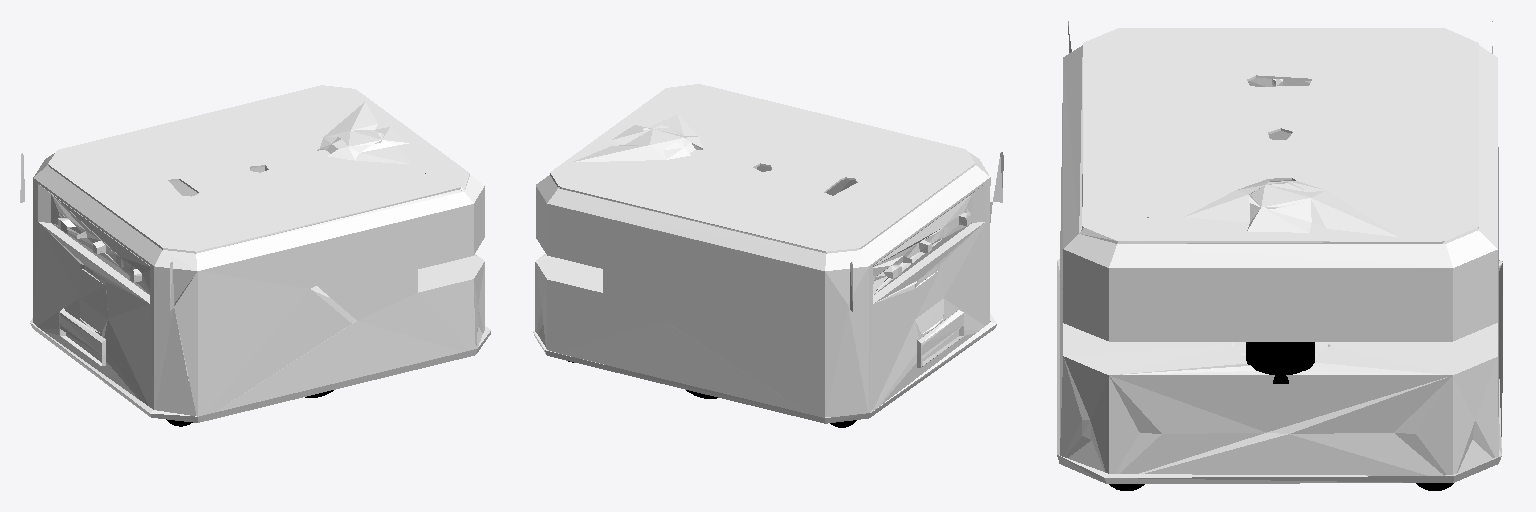
The robot description file, URDF, robot "qrb_robot_base":
<?xml version="1.0" ?>
<!-- =================================================================================== -->
<!-- |    This document was autogenerated by xacro from src/qrb_amr_sim/description/qrb_robot_base.urdf.xacro | -->
<!-- |    EDITING THIS FILE BY HAND IS NOT RECOMMENDED                                 | -->
<!-- =================================================================================== -->
<!-- Qualcomm's QRB robot base (qrb_ros_simulation, BSD-3-Clause) for the MoveIt Pro Simulator.
     The Gazebo diff-drive and sensor blocks are replaced by MujocoSystem and diff_drive_controller. -->
<robot name="qrb_robot_base">
  <mujoco>
    <option integrator="implicitfast"/>
    <compiler fusestatic="false" discardvisual="false"/>
  </mujoco>
  <material name="white">
    <color rgba="1 1 1 1"/>
  </material>
  <material name="black">
    <color rgba="0 0 0 1"/>
  </material>
  <material name="transparent">
    <color rgba="0 0 0 0"/>
  </material>
  <link name="base_footprint"/>
  <link name="base_link">
    <visual>
      <origin rpy="0 0 3.141592653589793" xyz="0 0 -0.1425"/>
      <geometry>
        <mesh filename="package://qrb_amr_sim/description/assets/wheelTec_AMR.STL" scale="0.001 0.001 0.001"/>
      </geometry>
      <material name="white"/>
    </visual>
    <inertial name="base_link_inertial">
      <mass value="38"/>
      <inertia ixx="1.0488791666666666" ixy="0" ixz="0" iyy="1.4744791666666666" iyz="0" izz="2.0089333333333337"/>
    </inertial>
    <collision name="base_link_collision">
      <origin rpy="0 0 0" xyz="0 0 0"/>
      <geometry>
        <box size="0.62 0.5 0.285"/>
      </geometry>
    </collision>
  </link>
  <joint name="base_link_joint" type="fixed">
    <parent link="base_footprint"/>
    <child link="base_link"/>
    <origin xyz="0 0 0.1789"/>
  </joint>
  <link name="laser">
    <visual>
      <origin rpy="0 0 3.141592653589793" xyz="0 0 0"/>
      <geometry>
        <cylinder length="0.041" radius="0.038"/>
      </geometry>
      <material name="transparent"/>
    </visual>
    <inertial>
      <mass value="0.3"/>
      <inertia ixx="0.00015032499999999998" ixy="0" ixz="0" iyy="0.00015032499999999998" iyz="0" izz="0.00021659999999999998"/>
    </inertial>
    <collision>
      <origin rpy="0 0 3.141592653589793" xyz="0 0 0"/>
      <geometry>
        <cylinder length="0.041" radius="0.038"/>
      </geometry>
    </collision>
  </link>
  <joint name="laser_joint" type="fixed">
    <parent link="base_link"/>
    <child link="laser"/>
    <origin rpy="0 0 0" xyz="0.262 0 -0.002899999999999986"/>
  </joint>
  <!-- Wheel_left Link -->
  <link name="wheel_left">
    <inertial name="wheel_left_inertial">
      <mass value="1"/>
      <inertia ixx="0.0012808958333333335" ixy="0" ixz="0" iyy="0.0012808958333333335" iyz="0" izz="0.0021451250000000003"/>
    </inertial>
    <collision name="wheel_left_collision">
      <origin rpy="1.5707963267948966 0 0" xyz="0 0 0"/>
      <geometry>
        <cylinder length="0.05" radius="0.0655"/>
      </geometry>
    </collision>
    <visual name="wheel_left_visual">
      <origin rpy="1.5707963267948966 0 0" xyz="0 0 0"/>
      <geometry>
        <cylinder length="0.05" radius="0.0655"/>
      </geometry>
      <material name="transparent"/>
    </visual>
  </link>
  <!-- Wheel_right Link -->
  <link name="wheel_right">
    <inertial name="wheel_right_inertial">
      <mass value="1"/>
      <inertia ixx="0.0012808958333333335" ixy="0" ixz="0" iyy="0.0012808958333333335" iyz="0" izz="0.0021451250000000003"/>
    </inertial>
    <collision name="wheel_right_collision">
      <origin rpy="1.5707963267948966 0 0" xyz="0 0 0"/>
      <geometry>
        <cylinder length="0.05" radius="0.0655"/>
      </geometry>
    </collision>
    <visual name="wheel_right_visual">
      <origin rpy="1.5707963267948966 0 0" xyz="0 0 0"/>
      <geometry>
        <cylinder length="0.05" radius="0.0655"/>
      </geometry>
      <material name="transparent"/>
    </visual>
  </link>
  <!-- Wheel_left Joint Link -->
  <joint name="wheel_left_joint" type="continuous">
    <origin xyz="0 0.165 -0.1134"/>
    <child link="wheel_left"/>
    <parent link="base_link"/>
    <axis xyz="0 1 0"/>
  </joint>
  <!-- Wheel_right Joint Link -->
  <joint name="wheel_right_joint" type="continuous">
    <origin xyz="0 -0.165 -0.1134"/>
    <child link="wheel_right"/>
    <parent link="base_link"/>
    <axis xyz="0 1 0"/>
  </joint>
  <link name="caster_wheel_link1">
    <visual>
      <origin rpy="1.5707963267948966 0 0" xyz="0 0 0"/>
      <geometry>
        <sphere radius="0.03"/>
      </geometry>
      <material name="transparent"/>
    </visual>
    <collision>
      <origin rpy="1.5707963267948966 0 0" xyz="0 0 0"/>
      <geometry>
        <sphere radius="0.03"/>
      </geometry>
    </collision>
    <inertial>
      <mass value="0.3"/>
      <inertia ixx="0.000108" ixy="0" ixz="0" iyy="0.000108" iyz="0" izz="0.000108"/>
    </inertial>
  </link>
  <joint name="caster_wheel_joint1" type="continuous">
    <parent link="base_link"/>
    <child link="caster_wheel_link1"/>
    <origin xyz="0.24 0.17 -0.1489"/>
    <axis xyz="1 1 1"/>
  </joint>
  <link name="caster_wheel_link2">
    <visual>
      <origin rpy="1.5707963267948966 0 0" xyz="0 0 0"/>
      <geometry>
        <sphere radius="0.03"/>
      </geometry>
      <material name="transparent"/>
    </visual>
    <collision>
      <origin rpy="1.5707963267948966 0 0" xyz="0 0 0"/>
      <geometry>
        <sphere radius="0.03"/>
      </geometry>
    </collision>
    <inertial>
      <mass value="0.3"/>
      <inertia ixx="0.000108" ixy="0" ixz="0" iyy="0.000108" iyz="0" izz="0.000108"/>
    </inertial>
  </link>
  <joint name="caster_wheel_joint2" type="continuous">
    <parent link="base_link"/>
    <child link="caster_wheel_link2"/>
    <origin xyz="0.24 -0.17 -0.1489"/>
    <axis xyz="1 1 1"/>
  </joint>
  <link name="caster_wheel_link3">
    <visual>
      <origin rpy="1.5707963267948966 0 0" xyz="0 0 0"/>
      <geometry>
        <sphere radius="0.03"/>
      </geometry>
      <material name="transparent"/>
    </visual>
    <collision>
      <origin rpy="1.5707963267948966 0 0" xyz="0 0 0"/>
      <geometry>
        <sphere radius="0.03"/>
      </geometry>
    </collision>
    <inertial>
      <mass value="0.3"/>
      <inertia ixx="0.000108" ixy="0" ixz="0" iyy="0.000108" iyz="0" izz="0.000108"/>
    </inertial>
  </link>
  <joint name="caster_wheel_joint3" type="continuous">
    <parent link="base_link"/>
    <child link="caster_wheel_link3"/>
    <origin xyz="-0.24 0.17 -0.1489"/>
    <axis xyz="1 1 1"/>
  </joint>
  <link name="caster_wheel_link4">
    <visual>
      <origin rpy="1.5707963267948966 0 0" xyz="0 0 0"/>
      <geometry>
        <sphere radius="0.03"/>
      </geometry>
      <material name="transparent"/>
    </visual>
    <collision>
      <origin rpy="1.5707963267948966 0 0" xyz="0 0 0"/>
      <geometry>
        <sphere radius="0.03"/>
      </geometry>
    </collision>
    <inertial>
      <mass value="0.3"/>
      <inertia ixx="0.000108" ixy="0" ixz="0" iyy="0.000108" iyz="0" izz="0.000108"/>
    </inertial>
  </link>
  <joint name="caster_wheel_joint4" type="continuous">
    <parent link="base_link"/>
    <child link="caster_wheel_link4"/>
    <origin xyz="-0.24 -0.17 -0.1489"/>
    <axis xyz="1 1 1"/>
  </joint>
  <link name="base_imu_link">
    <inertial>
      <mass value="0.01"/>
      <inertia ixx="1.0" ixy="0" ixz="0" iyy="1.0" iyz="0" izz="1.0"/>
    </inertial>
  </link>
  <joint name="base_to_imu_joint" type="fixed">
    <origin xyz="0.0 0.0 0.0"/>
    <parent link="base_link"/>
    <child link="base_imu_link"/>
  </joint>
  <!-- Gazebo elements -->
  <gazebo reference="caster_wheel_link1">
    <mu1>0</mu1>
    <mu2>0</mu2>
  </gazebo>
  <gazebo reference="caster_wheel_link2">
    <mu1>0</mu1>
    <mu2>0</mu2>
  </gazebo>
  <gazebo reference="caster_wheel_link3">
    <mu1>0</mu1>
    <mu2>0</mu2>
  </gazebo>
  <gazebo reference="caster_wheel_link4">
    <mu1>0</mu1>
    <mu2>0</mu2>
  </gazebo>
  
</robot>

--- Facts derived from the render (not from the file) ---
The picture shows the robot from 3 angles, left to right: view 1: azimuth 30°, elevation 25°; view 2: azimuth 150°, elevation 25°; view 3: azimuth 270°, elevation 25°; orthographic projection.
Robot: qrb_robot_base — 10 links, 9 joints (6 continuous, 3 fixed); root link base_footprint; default pose: every joint at zero.
Visible links, largest first — view 1: base_link; view 2: base_link; view 3: base_link, laser.
Boxes of the visible links, x1,y1,x2,y2 form: base_link: (20,85,490,422); base_link: (533,84,1003,423); base_link: (1057,21,1502,483); laser: (1246,342,1314,383).
Size in the robot's own frame: 0.6328 by 0.4921 by 0.3398 metres.
Meshes: 1 distinct files referenced, 1 mesh visuals loaded (1 binary STL).
